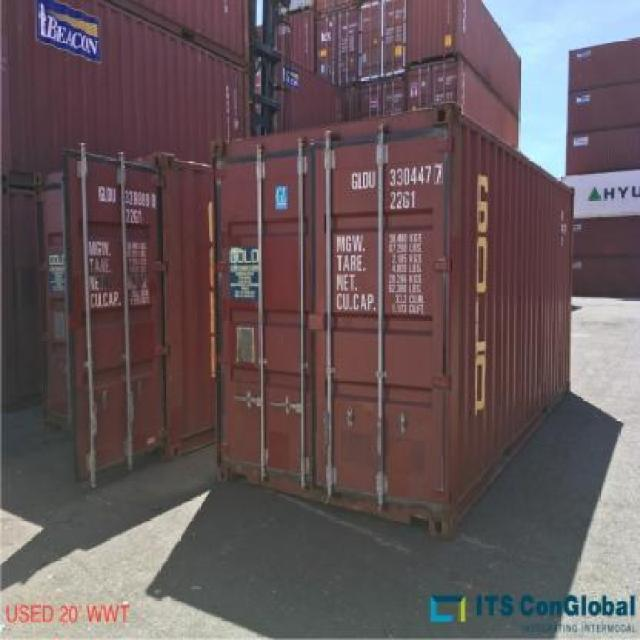ISO: (388, 190, 418, 210), (121, 208, 147, 224)
container_number: (346, 166, 446, 188), (96, 186, 155, 206)
